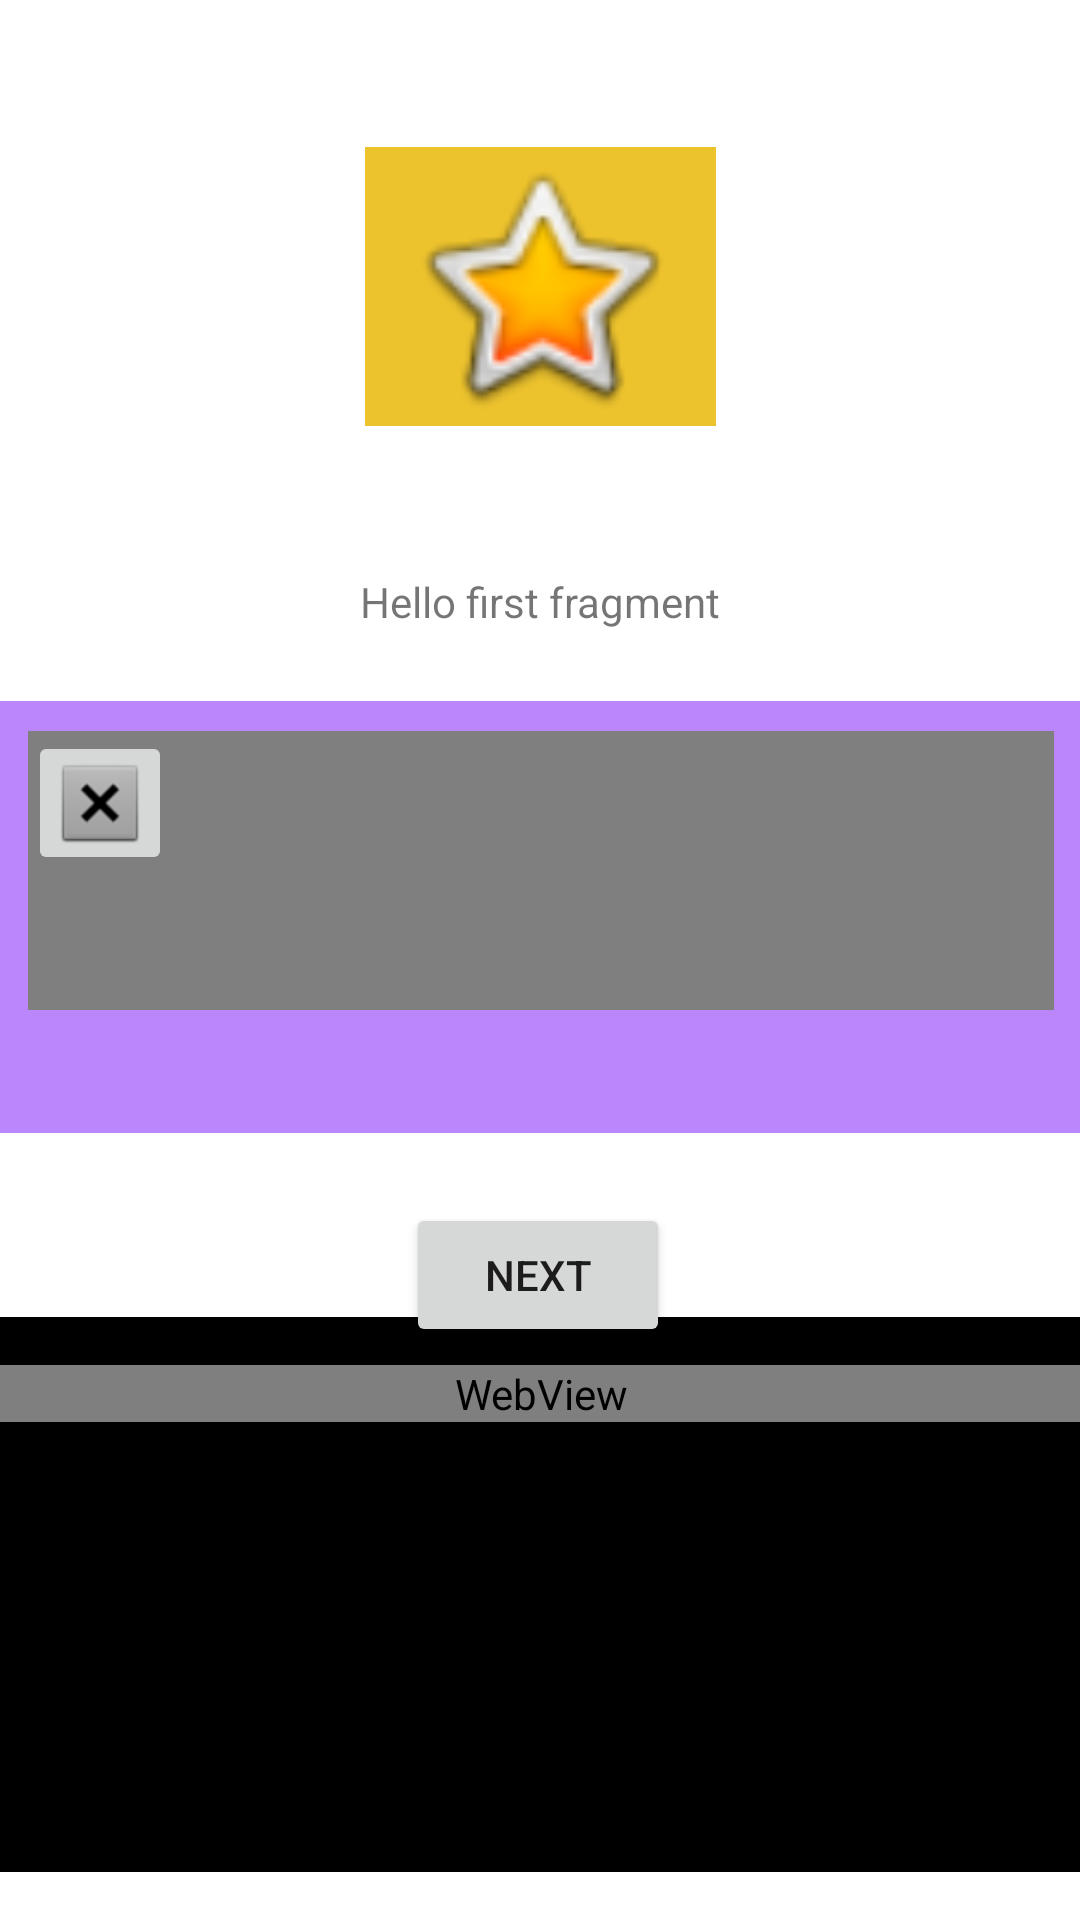

Icons on this 1080x1920 Android screen, each with the point to tap as (x,y):
star on: (540,286)
